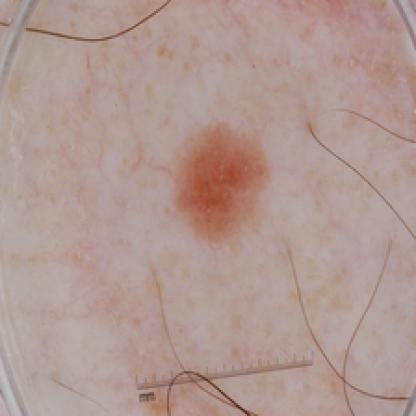malignant: (171, 113, 269, 238)
